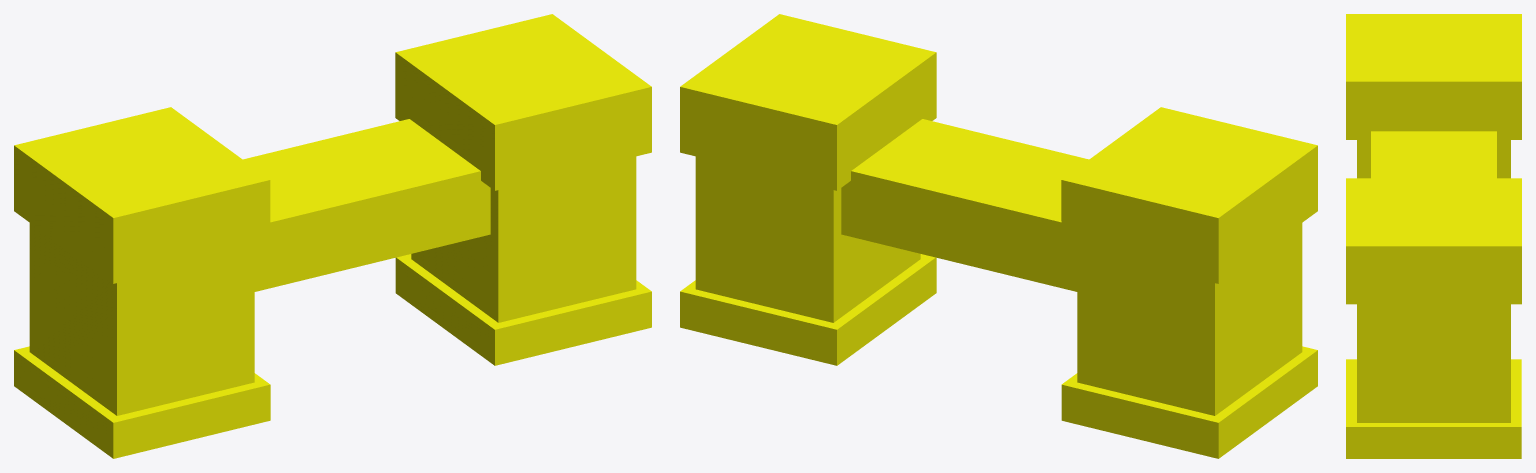
3 views of the same model, side by side, from view 1: azimuth 30°, elevation 25°; view 2: azimuth 150°, elevation 25°; view 3: azimuth 270°, elevation 25° (orthographic). The views are drawn at different scales.
Parts seen in each view (by area): view 1: anObstacle; view 2: anObstacle; view 3: anObstacle.
Part boxes in pixels (<box>): anObstacle: <box>14,14,651,458</box>; anObstacle: <box>680,14,1317,458</box>; anObstacle: <box>1346,14,1521,458</box>.
Bounding box in the file's own units: 2.31 × 0.986 × 0.7381.
Materials: 1 (1 with a texture image).
